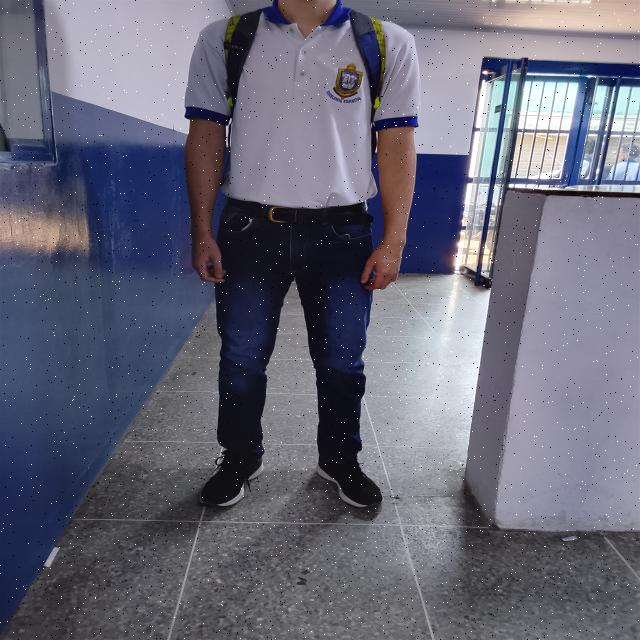pantalon_oscuro: (214, 210, 376, 460)
uniforme_superior: (184, 0, 419, 209)
